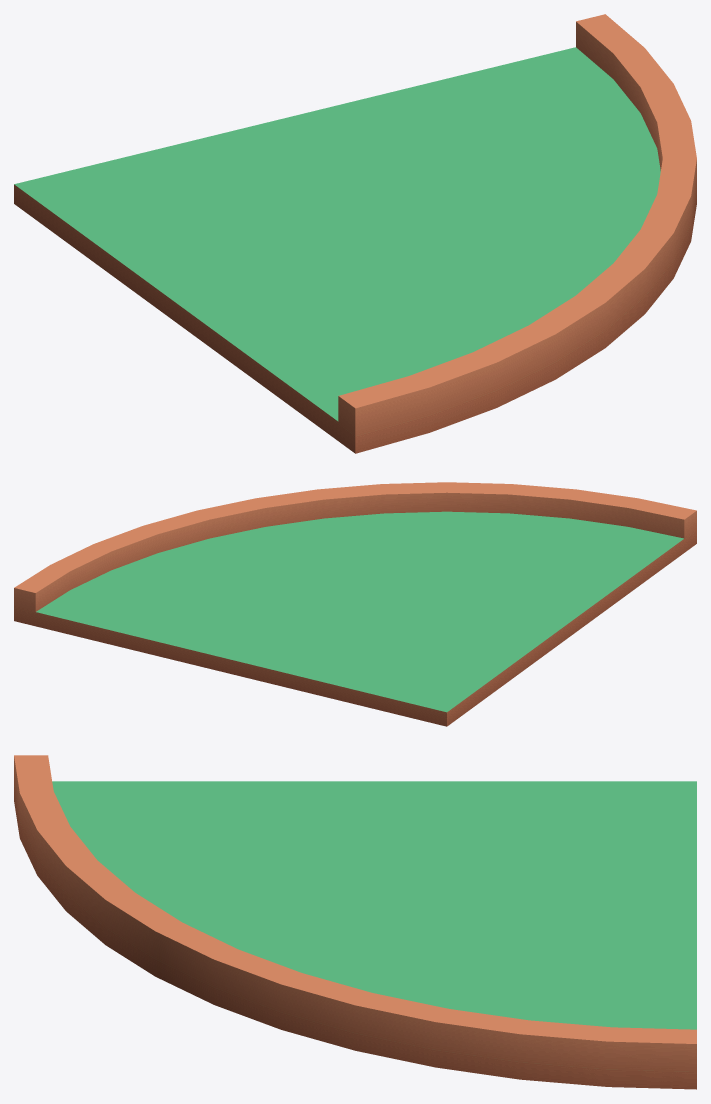
Rendered from round_large_corner_open.glb.
The picture shows the model from 3 angles, top to bottom: view 1: azimuth 30°, elevation 25°; view 2: azimuth 150°, elevation 25°; view 3: azimuth 270°, elevation 25°; orthographic projection. The views are drawn at different scales.
Parts seen in each view (by area): view 1: round-large-corner-open; view 2: round-large-corner-open; view 3: round-large-corner-open.
Boxes of the visible parts, bbox=[...] form: round-large-corner-open: bbox=[14, 14, 696, 453]; round-large-corner-open: bbox=[14, 482, 696, 726]; round-large-corner-open: bbox=[14, 755, 696, 1089].
Bounding box in the file's own units: 2 × 0.1467 × 2.
1 material, 1 textured.
